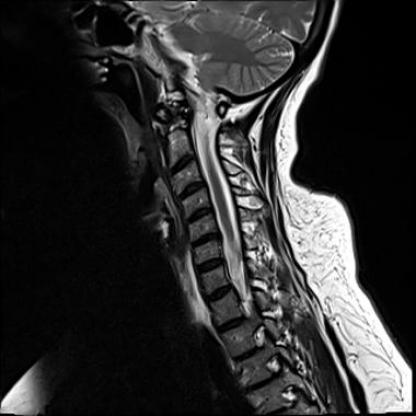Disc Bulgerotation: (194, 258, 226, 275), (173, 182, 208, 197), (189, 233, 222, 247), (183, 208, 215, 221)
Disc Protrusionrotation: (194, 258, 226, 275)
Osteophytesrotation: (173, 182, 208, 197), (189, 233, 222, 247), (183, 208, 215, 221)
